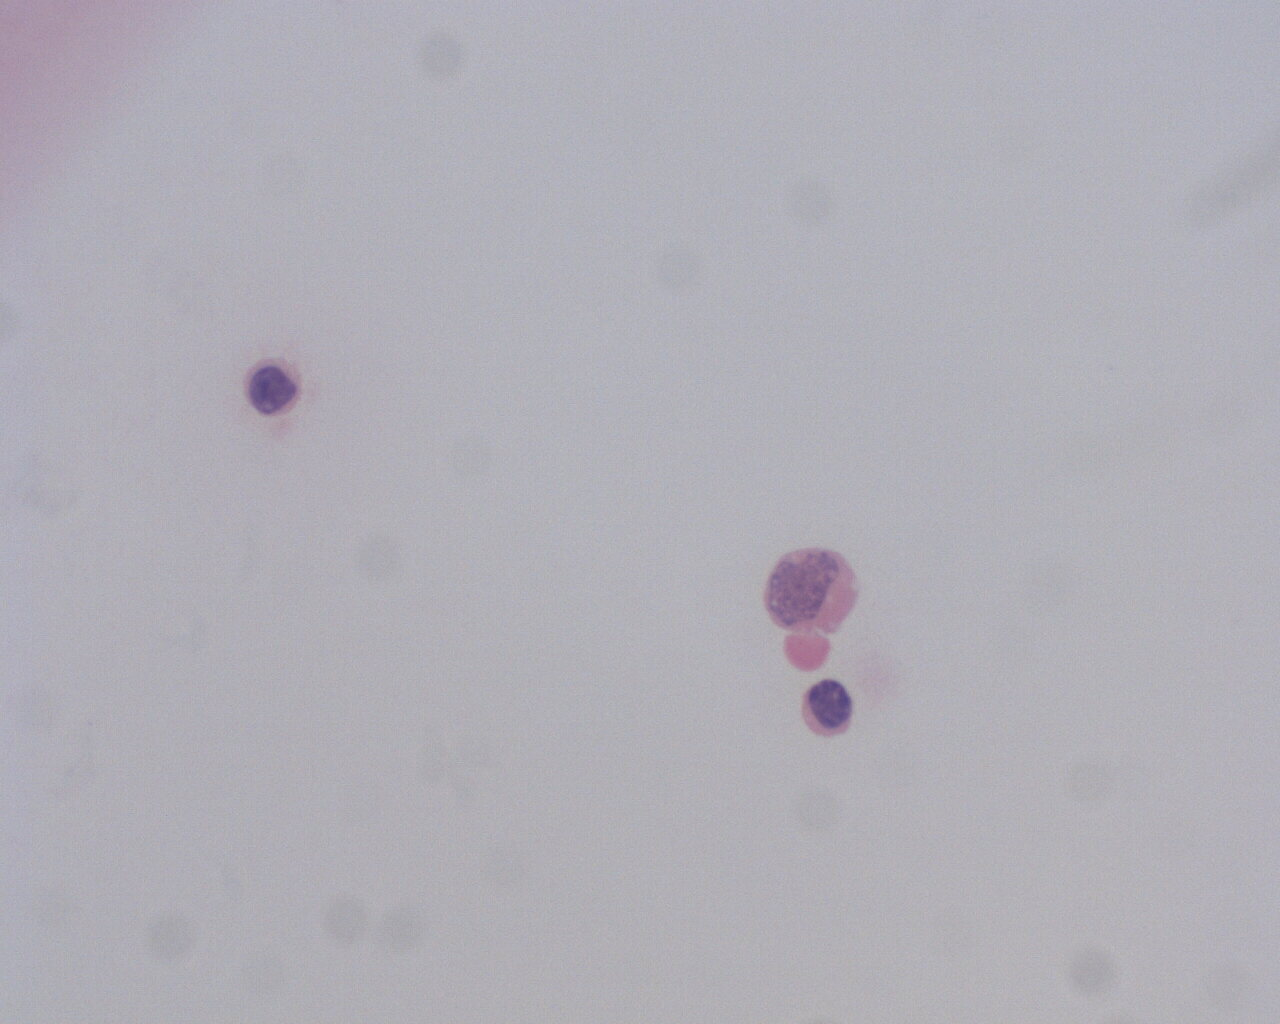ab: (245, 356, 304, 421), (798, 681, 859, 741)
